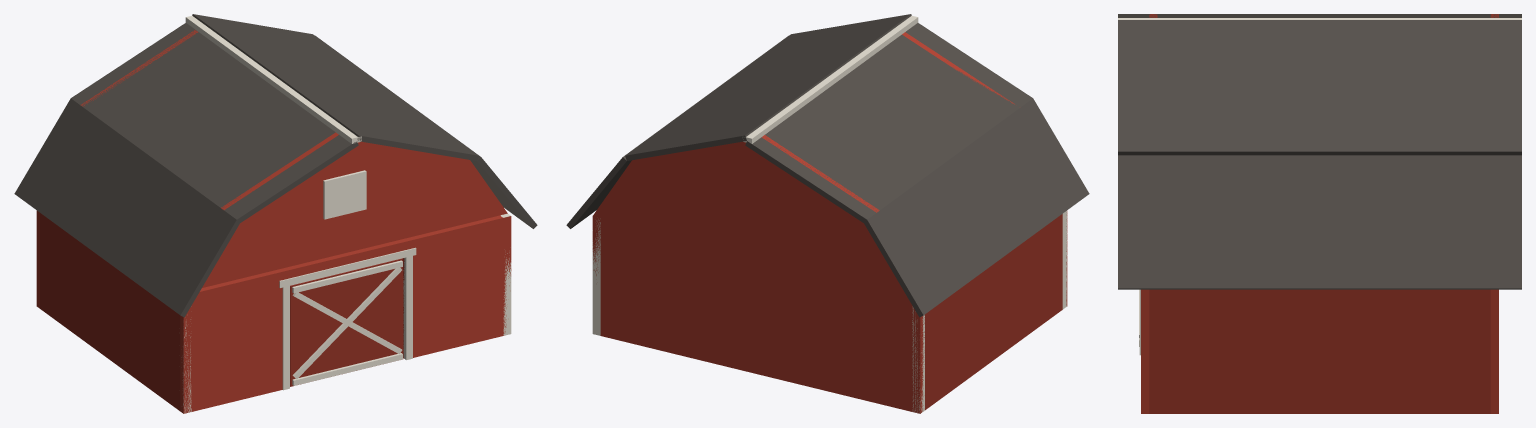
The model's file is barn2.glb.
3 views of the same model, side by side, from view 1: azimuth 30°, elevation 25°; view 2: azimuth 150°, elevation 25°; view 3: azimuth 270°, elevation 25° (orthographic). The views are drawn at different scales.
Visible parts, largest first — view 1: Barn, Door; view 2: Barn; view 3: Barn.
Boxes of the visible parts, x1,y1,x2,y2 form: Barn: (14,14,537,413); Door: (290,258,403,386); Barn: (566,14,1089,413); Barn: (1118,14,1521,413).
Size of the model in its own units: 9.81 by 6.43 by 7.9.
